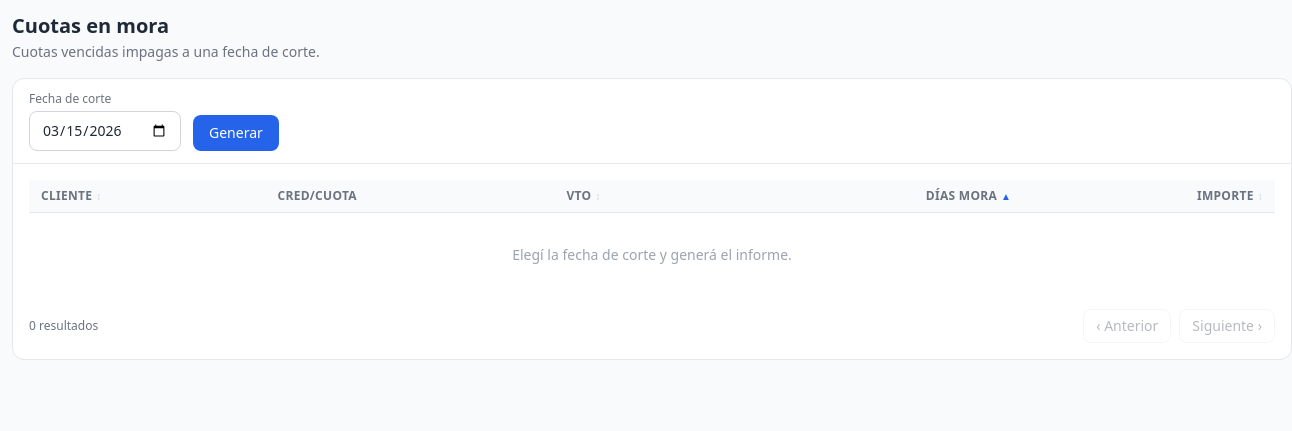
Test: Cuotas en mora › si falla lo informa y no deja datos viejos
The width and height of the screenshot is (1292, 431).
Click the button "Generar".
click(236, 133)  # box [193, 115, 279, 151]
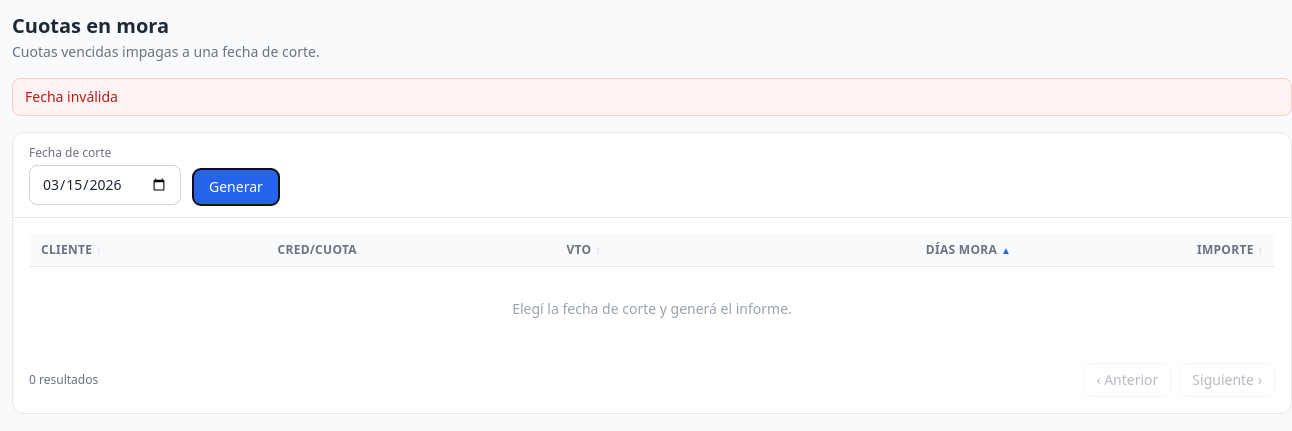
Result: the text "Fecha inválida" is shown at [12, 78, 1291, 116]
